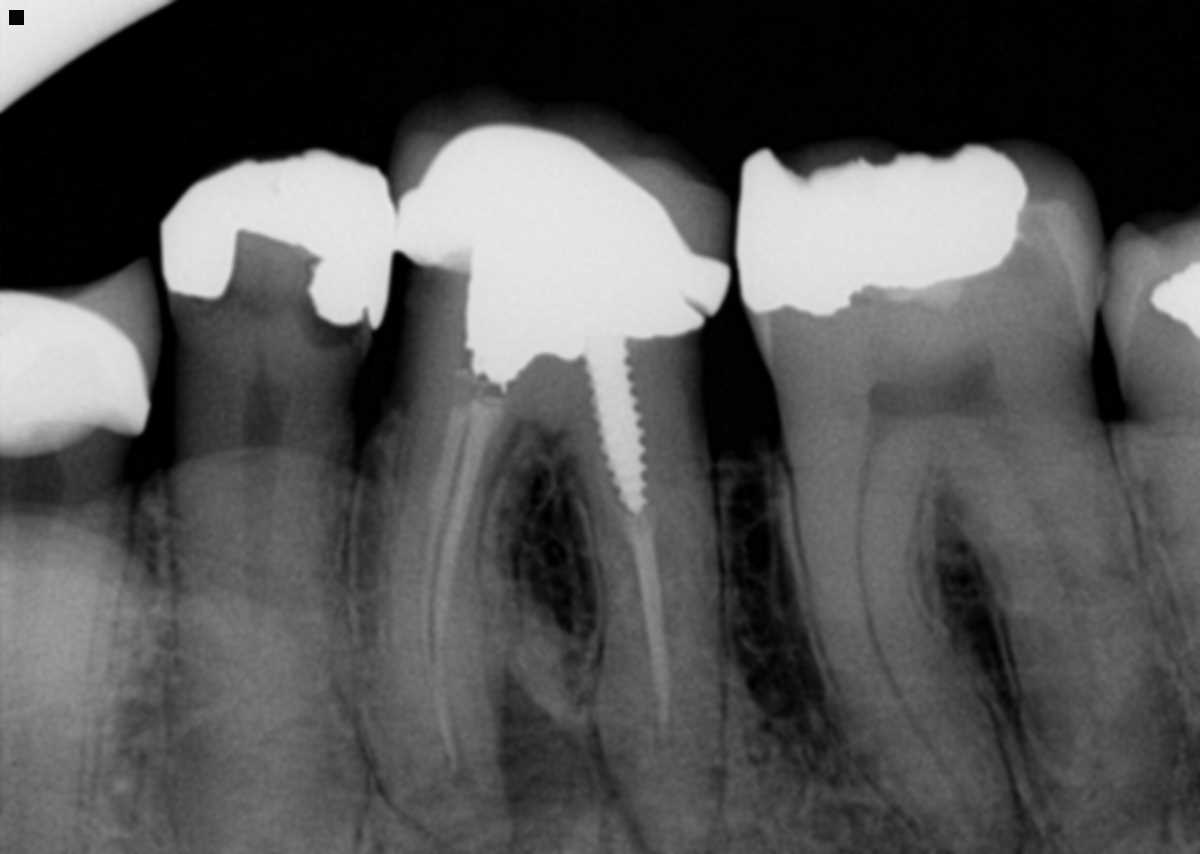Apical Lesion: (501, 676, 619, 854), (1142, 725, 1200, 854), (1005, 798, 1046, 854)
Distal Canal: (1010, 455, 1103, 766)
Distal Root: (946, 431, 1184, 854), (566, 419, 727, 854)
Main Canal: (9, 524, 52, 742), (243, 454, 277, 704)
Main Root: (164, 445, 372, 854), (0, 515, 132, 854)
Mesial Canal: (858, 456, 995, 839)
Mesial Root: (794, 456, 1025, 854), (361, 380, 525, 854)
Root Canal Filling: (421, 402, 501, 774), (625, 511, 670, 748)
decay: (300, 297, 361, 353)
